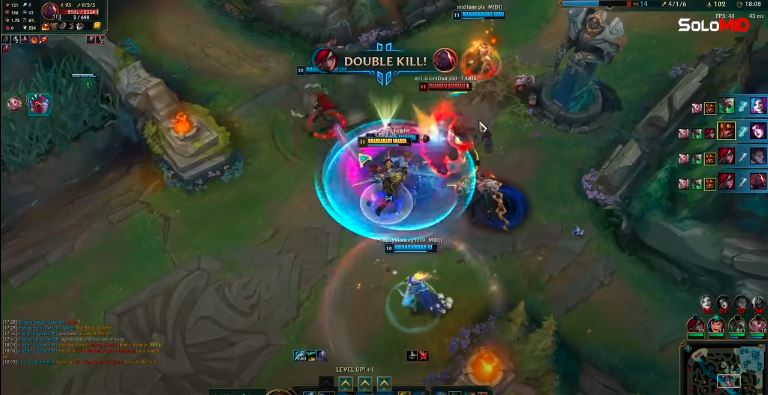bar: (365, 129, 423, 143), (382, 242, 441, 255), (417, 81, 475, 93), (295, 65, 350, 75), (451, 10, 504, 20), (358, 137, 410, 147)
